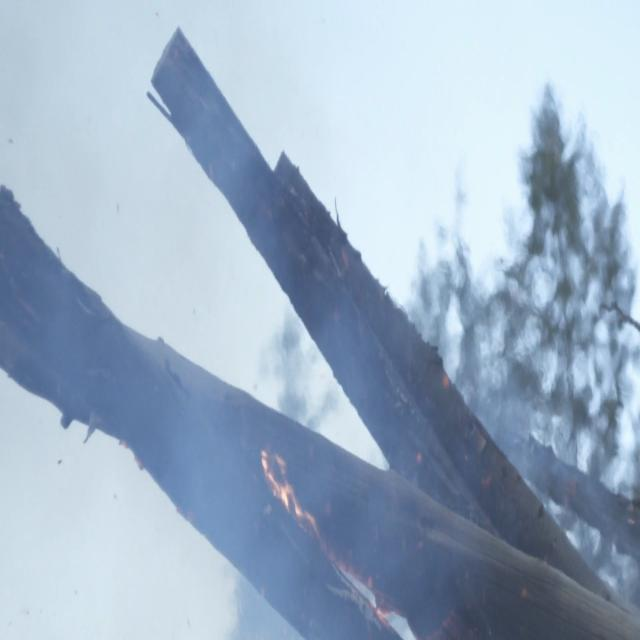Fire: (258, 443, 323, 547)
